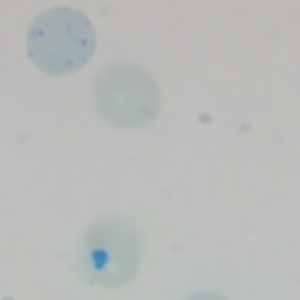erythrocyte: (90, 60, 164, 131)
punctate reticulocyte: (24, 5, 96, 77)
